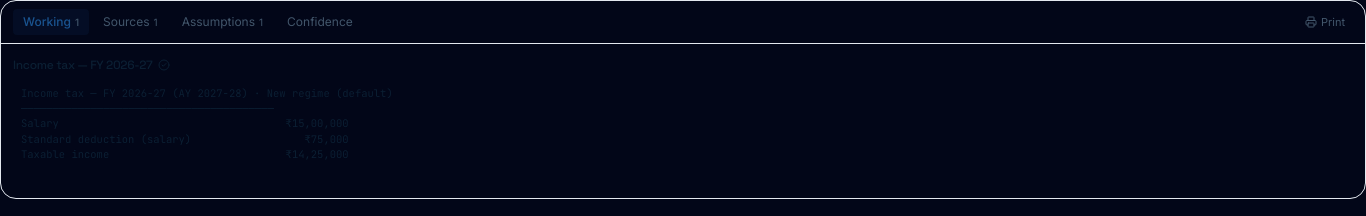
Test: Assumptions are addressable, not merely visible › says plainly that these are not facts the user gave
Click the tab "Assumptions1" at (222, 22), box [172,9,273,35]
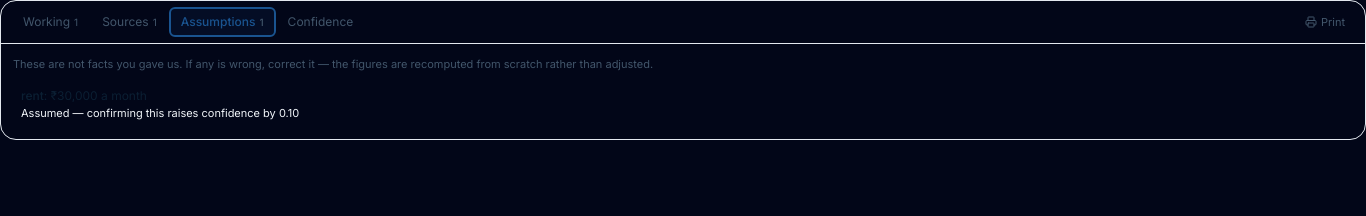
Now the panel named "assumptions" shows "These are not facts you gave us", box [13,57,653,71]
